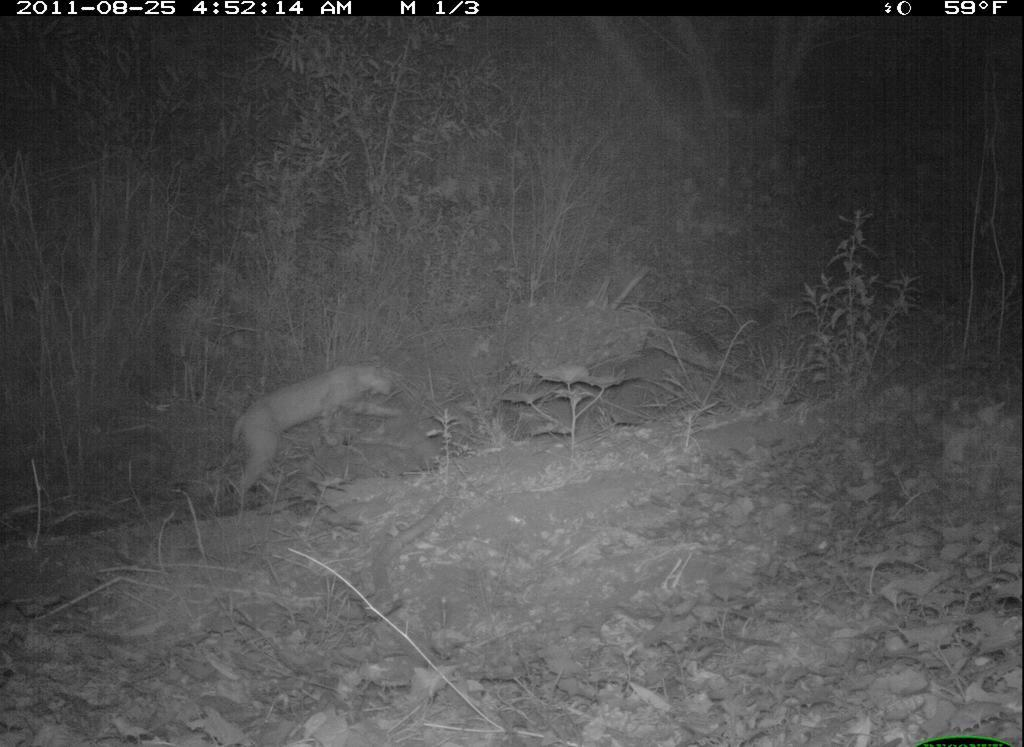bobcat: (230, 354, 408, 504)
